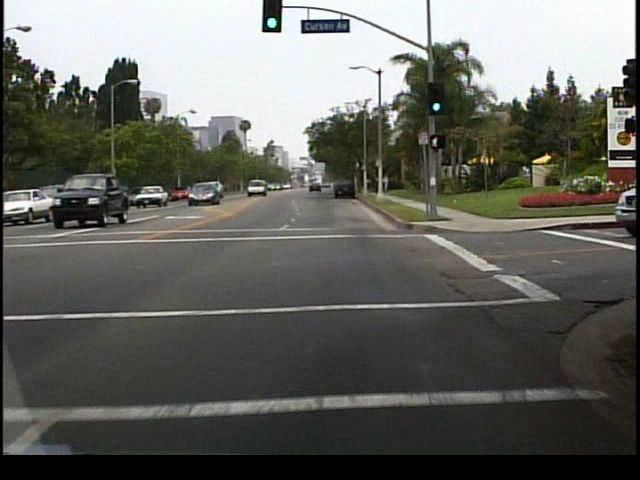person: (372, 176, 381, 200), (380, 172, 389, 193)
